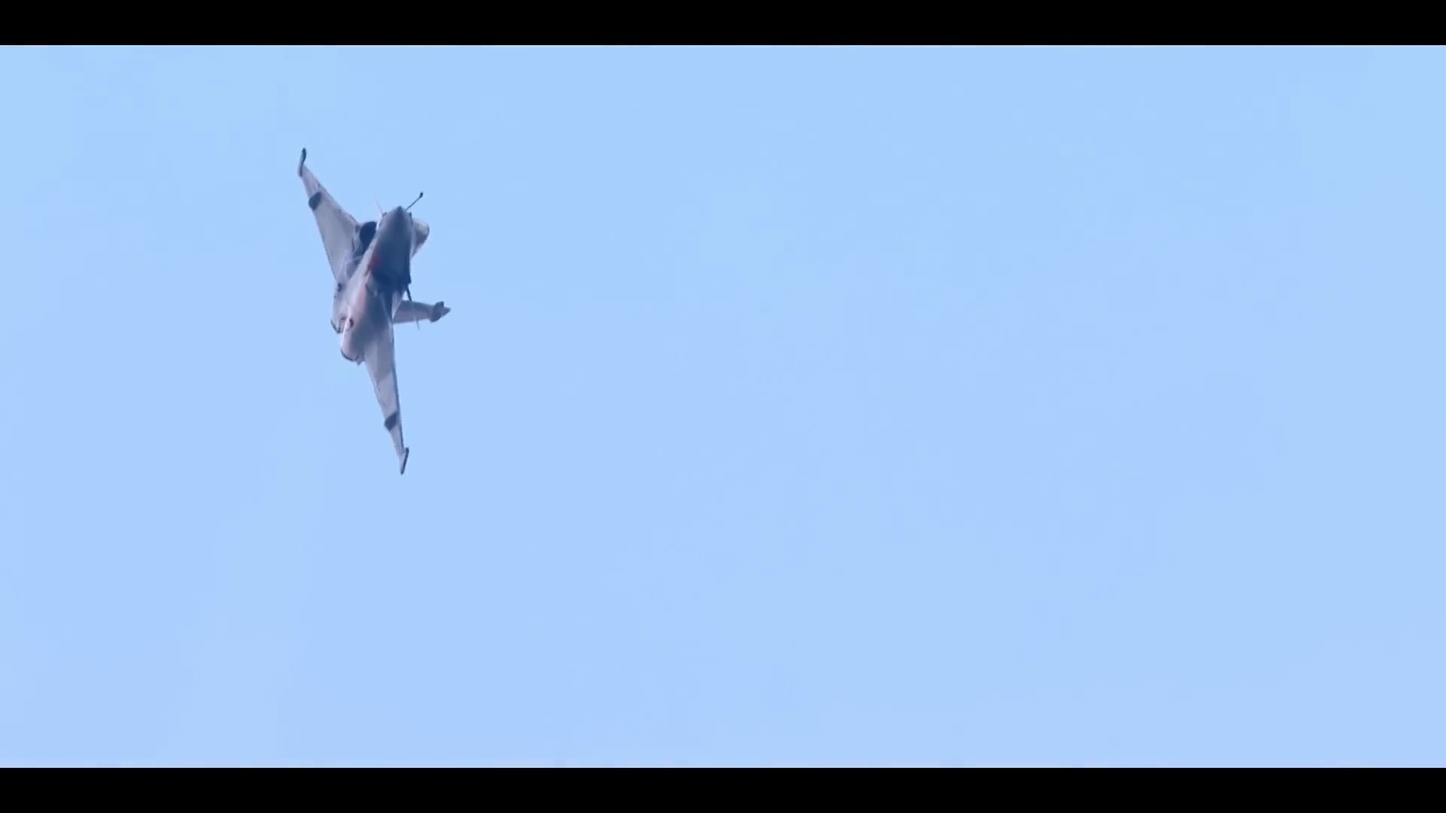Rafale: (293, 148, 456, 483)
